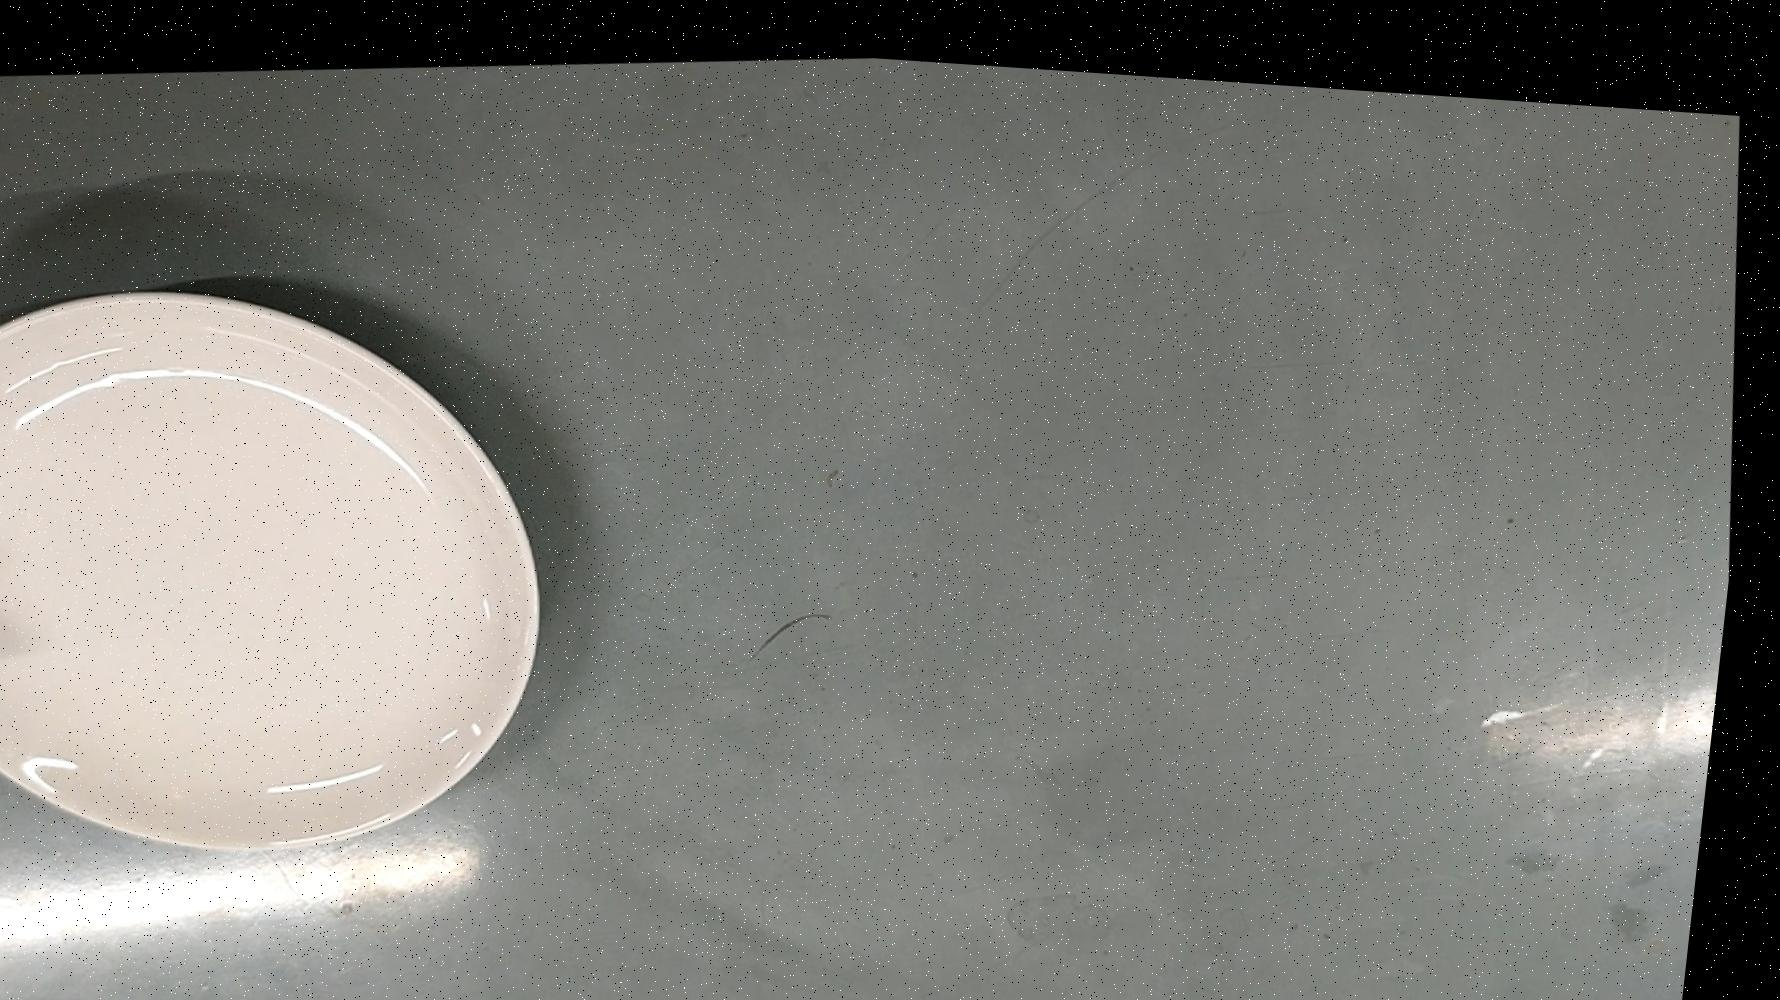plate: (0, 246, 604, 888)
